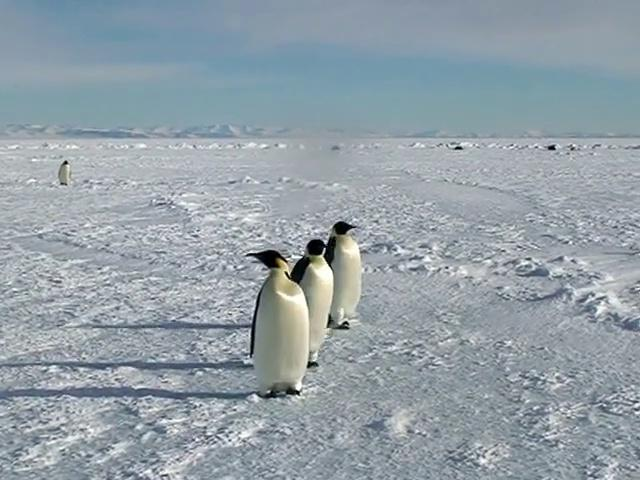animal: (325, 222, 362, 330)
